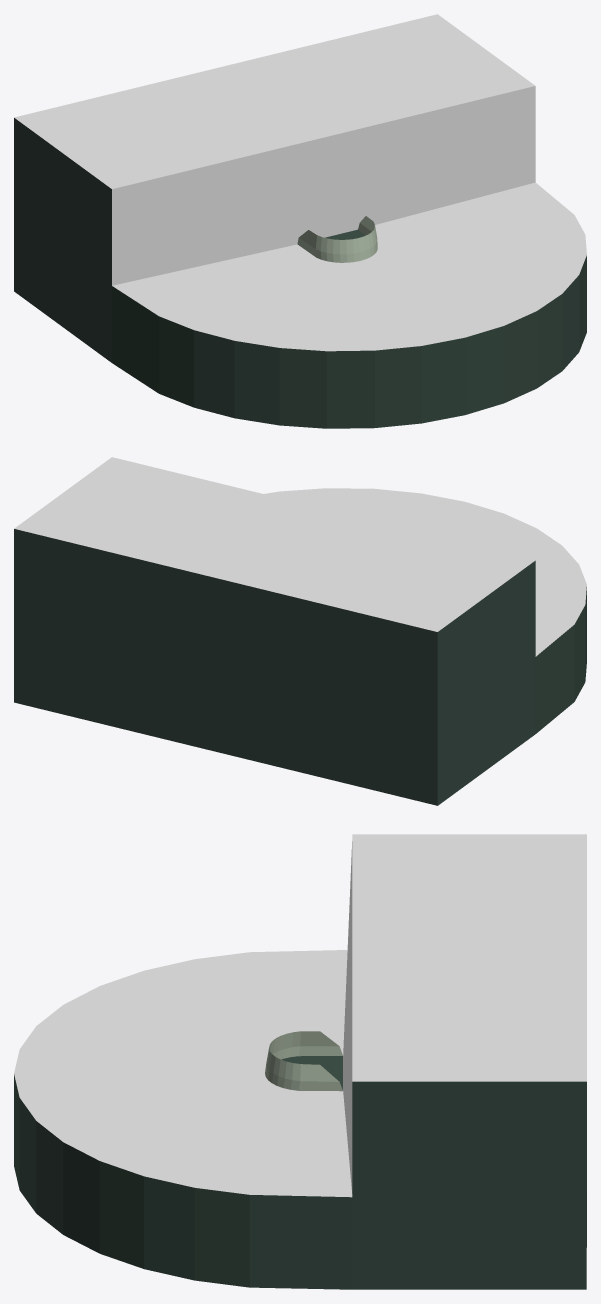
File: Bossstage.fbx
3 views of the same model, one above another, from view 1: azimuth 30°, elevation 25°; view 2: azimuth 150°, elevation 25°; view 3: azimuth 270°, elevation 25° (orthographic). The views are drawn at different scales.
Parts seen in each view (by area): view 1: Stage; view 2: Stage; view 3: Stage.
Boxes of the visible parts, x1,y1,x2,y2 form: Stage: (14, 14, 586, 428); Stage: (14, 457, 586, 805); Stage: (14, 834, 586, 1289).
Bounding box in the file's own units: 79.96 × 31.4 × 78.26.
